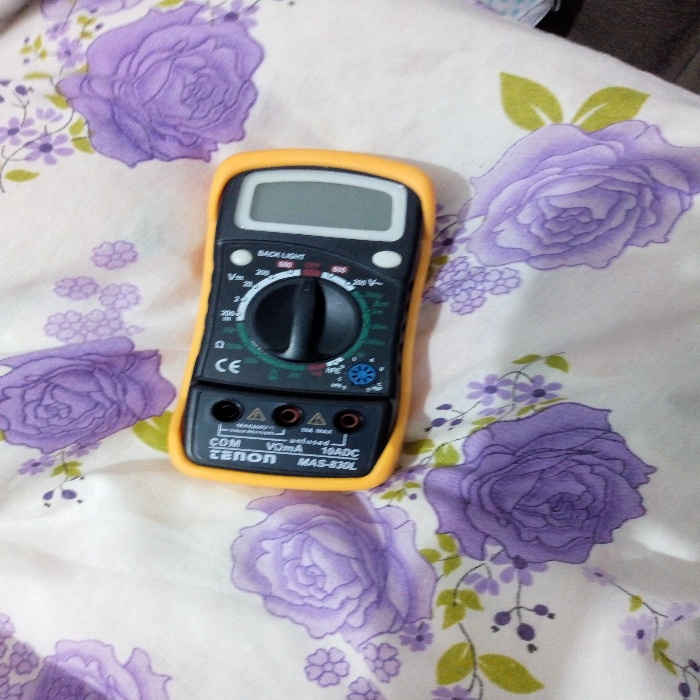multimetre: (160, 96, 440, 502)
